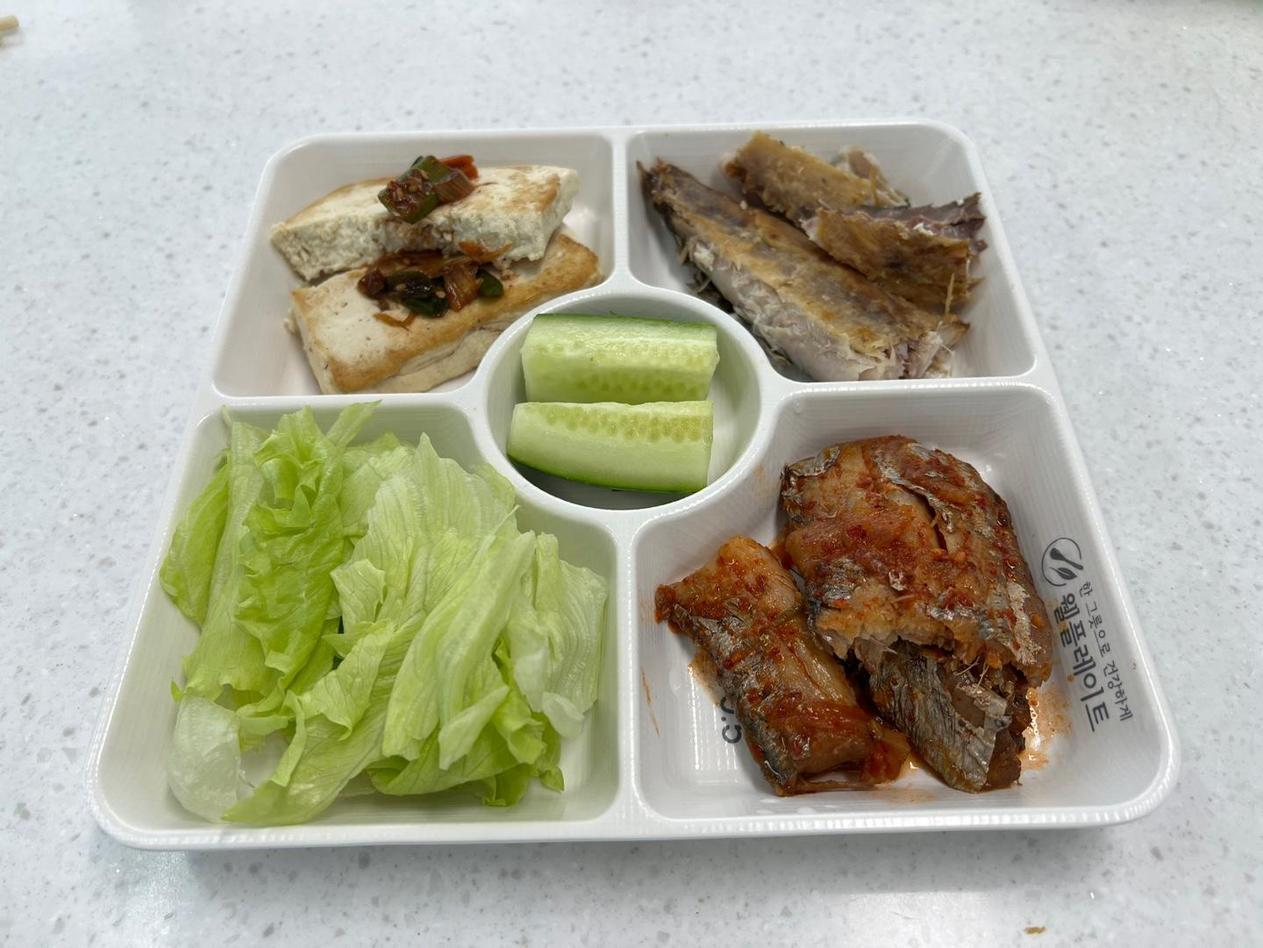food: (161, 406, 609, 828), (668, 437, 1118, 794), (189, 431, 580, 805), (655, 438, 1054, 799), (639, 125, 986, 383), (270, 155, 608, 397), (656, 134, 1003, 367), (282, 159, 591, 390), (502, 316, 720, 500), (516, 314, 729, 482)
